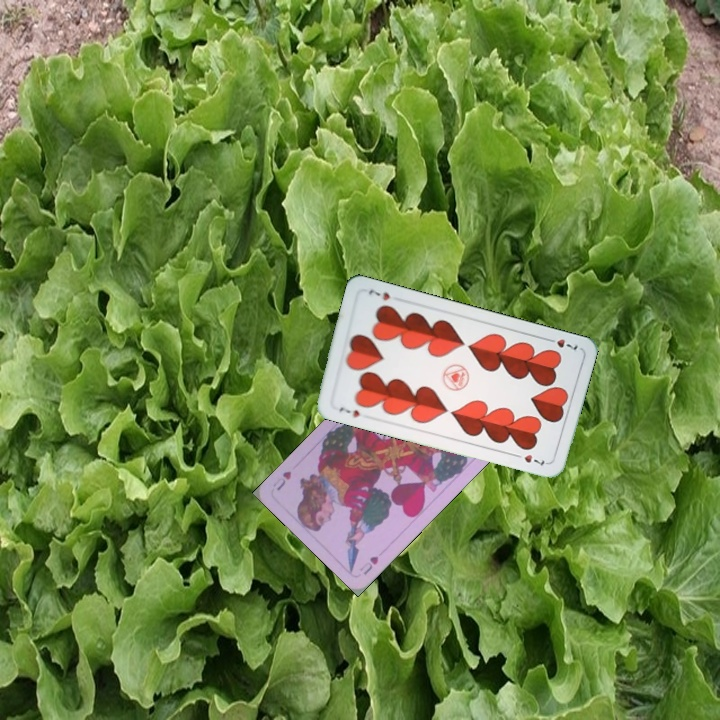H7: (542, 334, 580, 353), (335, 403, 362, 420)
HU: (356, 552, 381, 577)
